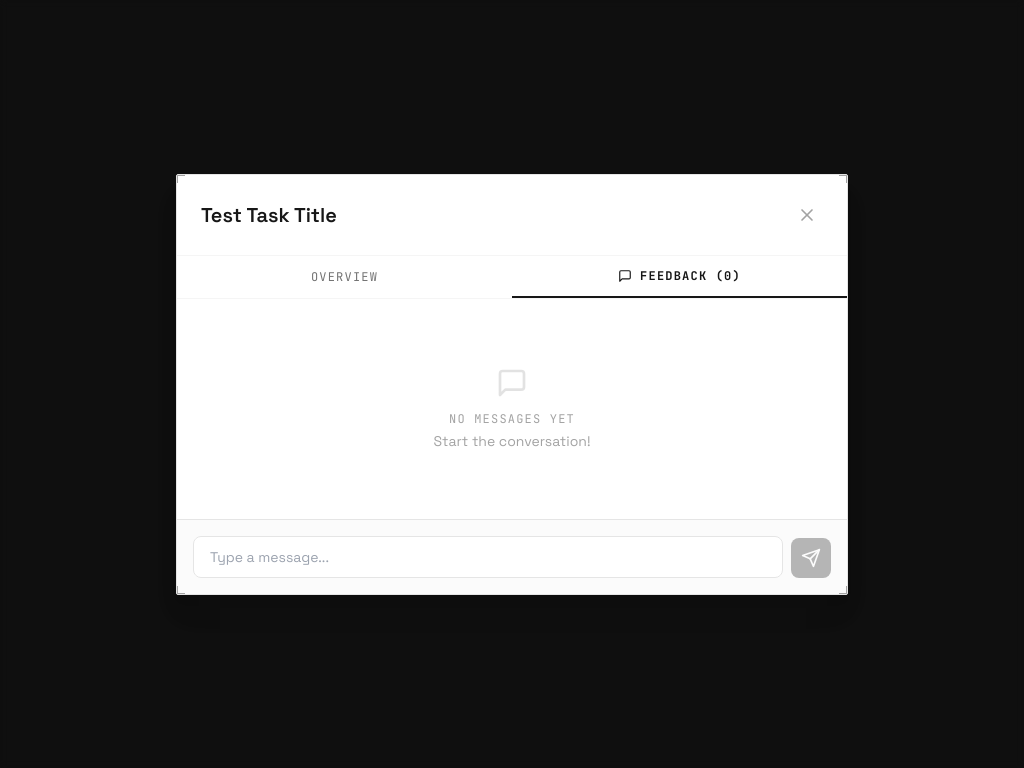
it: ClientTaskModal › renders empty description when not provided
Step 1. Click the button "Overview" → (344, 276), box x1=177 y1=256 x2=512 y2=298
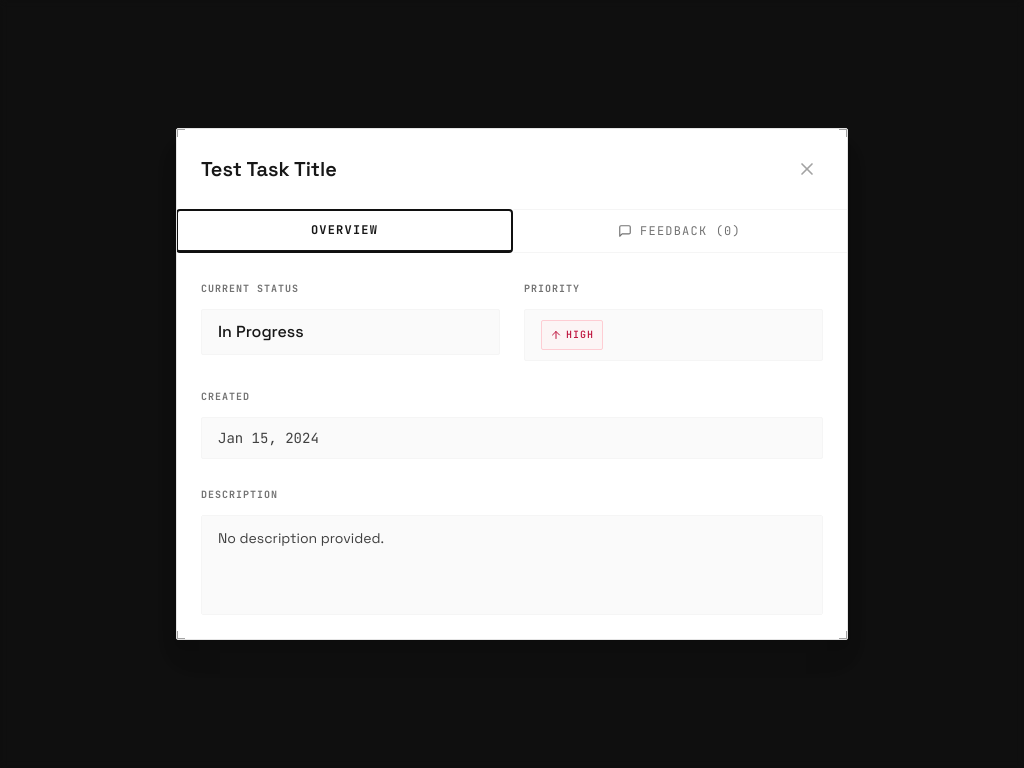
Expected: the text "No description provided." is shown, x1=201 y1=515 x2=823 y2=615
